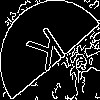K: (25, 25, 74, 82)
